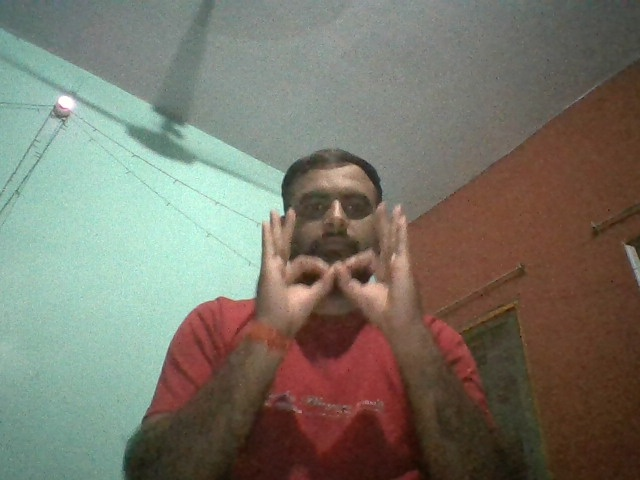family: (260, 201, 418, 322)
